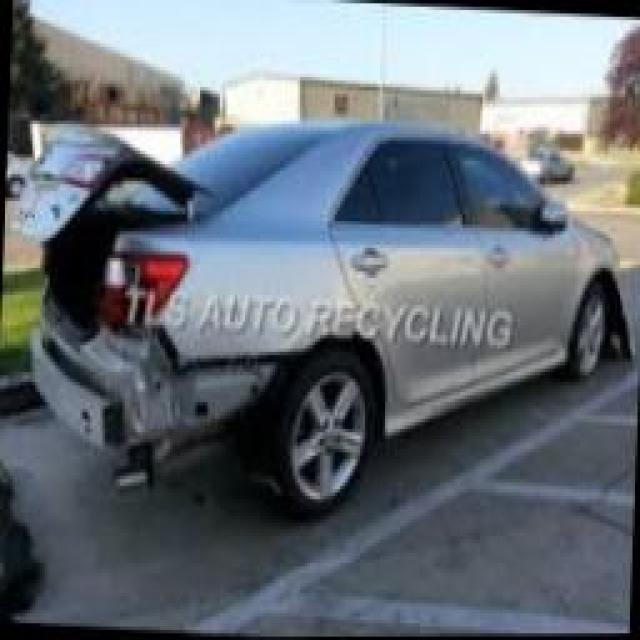Bumper: (28, 315, 294, 482)
Dickey: (30, 111, 228, 344)
Light: (87, 250, 186, 320)
